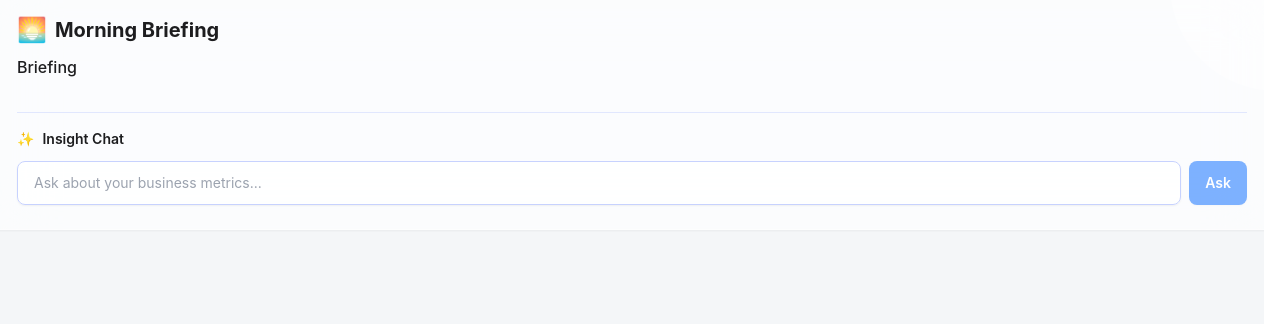
Test: MorningBriefingCard › handles insight chat correctly
The width and height of the screenshot is (1264, 324).
Expected: the text "Briefing" is shown, 17,57 -> 77,77
In the field with test id "insight-chat-input": (599, 183) 17,161 -> 1181,205, type "Hello agent"
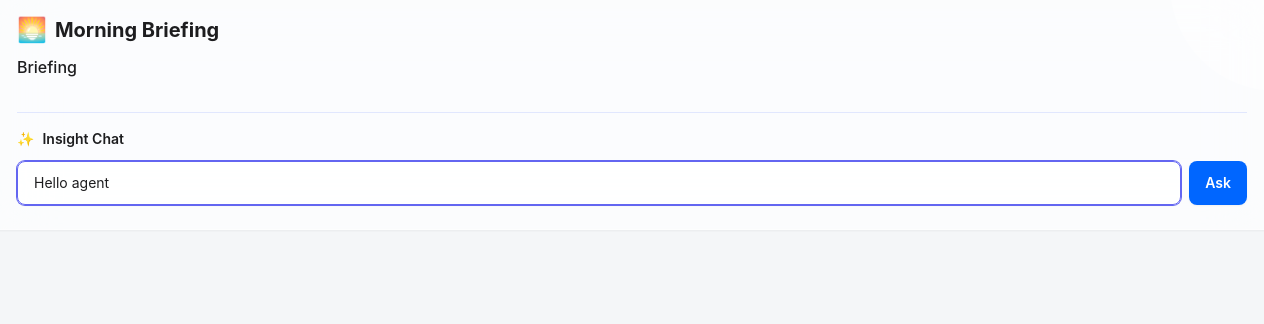
Test the button click
Click the button with test id "insight-chat-submit": (1218, 183) 1189,161 -> 1247,205
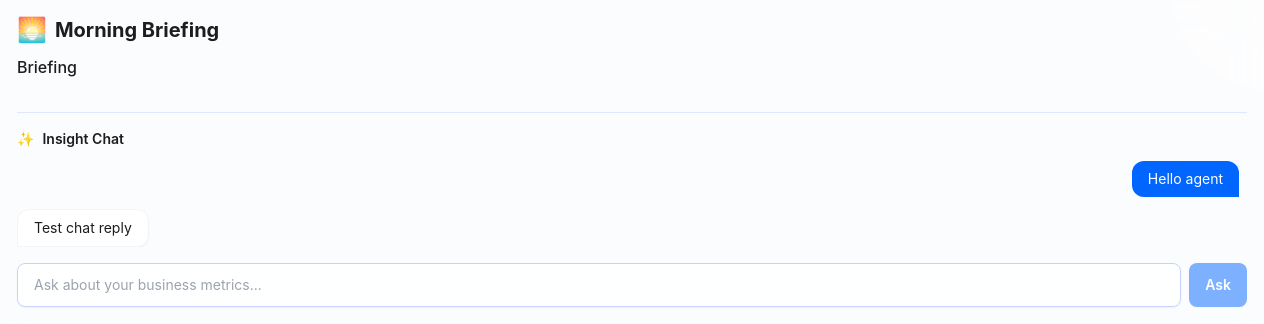
Now the text "Hello agent" is shown, box 1132,161 -> 1239,197
Now the text "Test chat reply" is shown, box 17,209 -> 149,247
